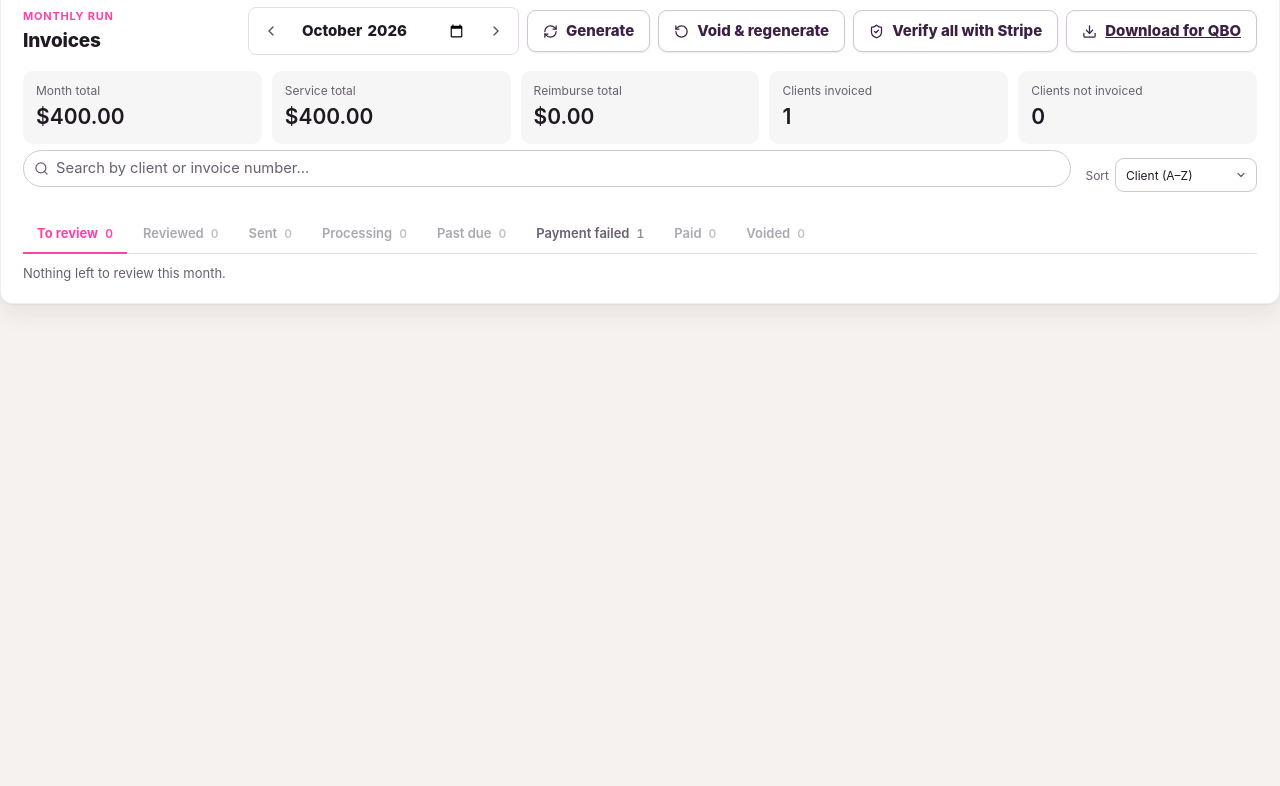
Test: the Payment failed tab › tells her what to do when the invoice is opened
Click the tab "Payment failed 1" at point(590, 235), box [522,215,658,254]
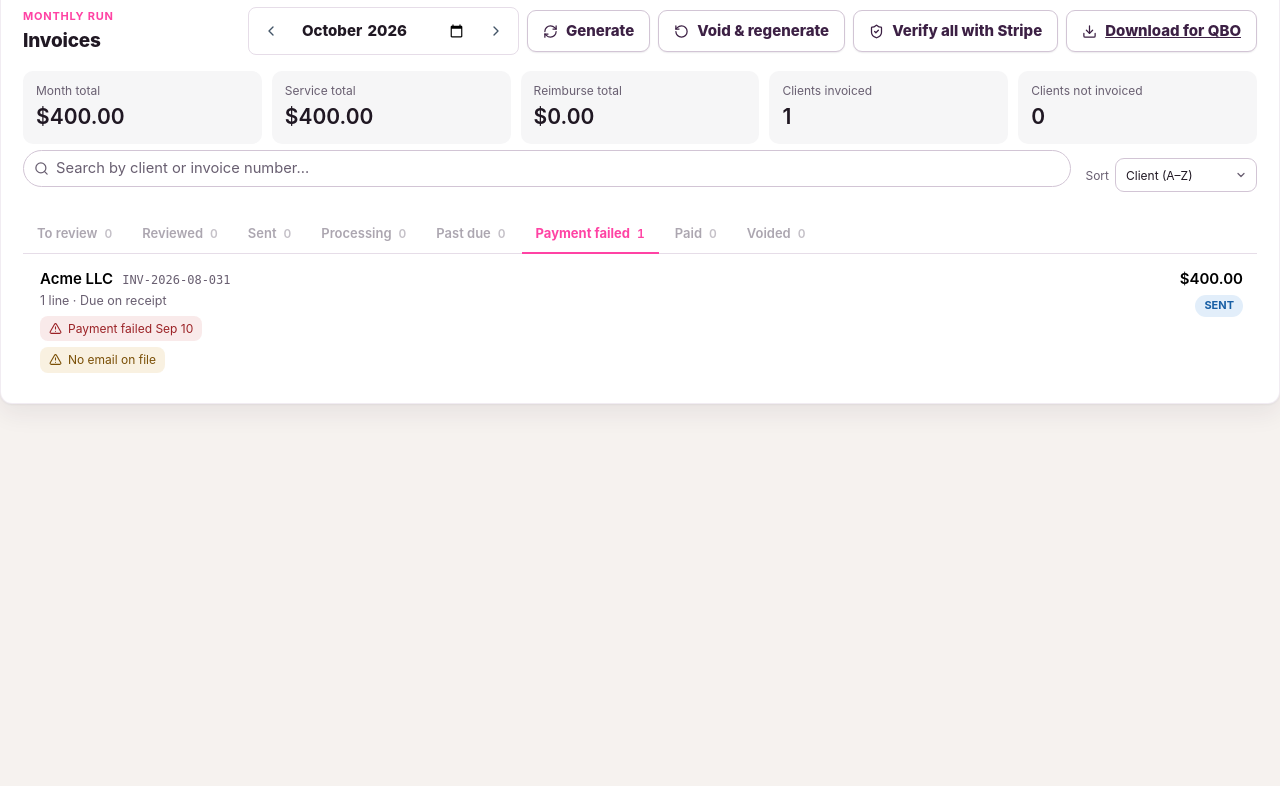
Click the text "INV-2026-08-031" at point(176, 281), box [122,272,231,289]
(page scrolled)
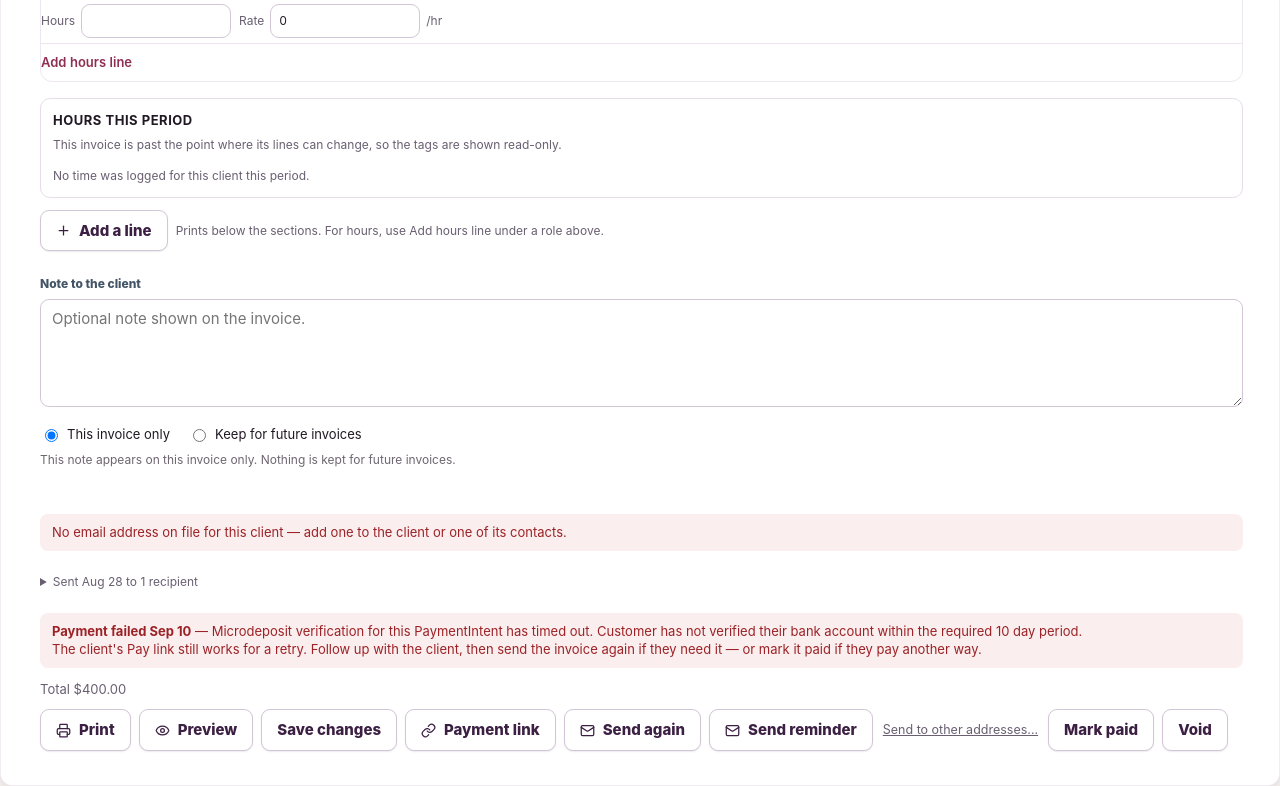
Now the text "The client's Pay link still works for a retry" shows "Payment failed Sep 10", box [40,613,1243,668]
Now the text "The client's Pay link still works for a retry" shows "Microdeposit verification", box [191,623,1082,639]
Now the text "The client's Pay link still works for a retry" shows "send the invoice again", box [52,642,982,658]
